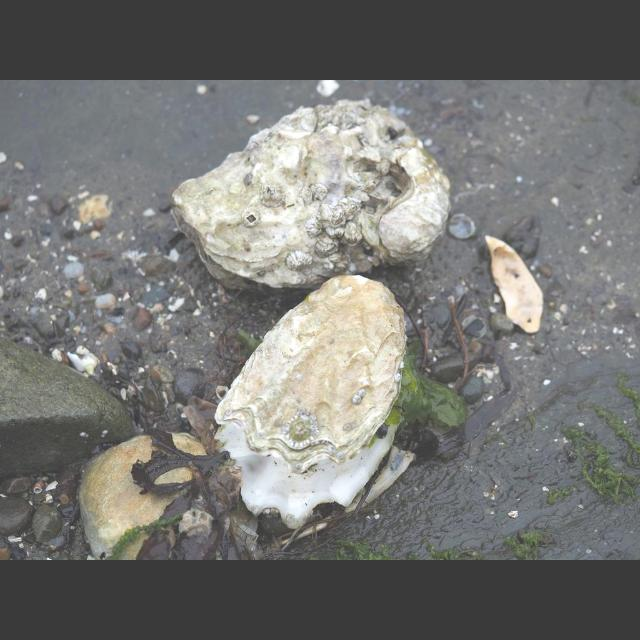Oyster-Closed: (172, 98, 450, 286)
Oyster-Open: (215, 274, 409, 528)
